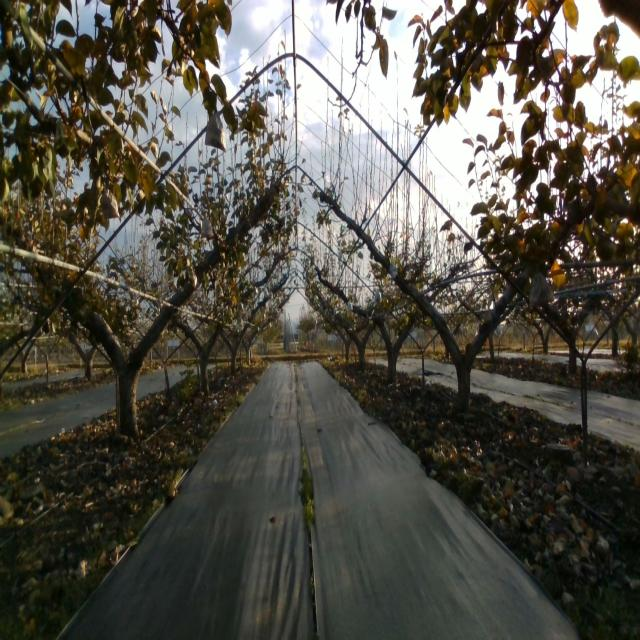pearbags: (529, 271, 554, 311), (204, 111, 226, 152), (99, 188, 120, 220), (202, 216, 214, 239)
